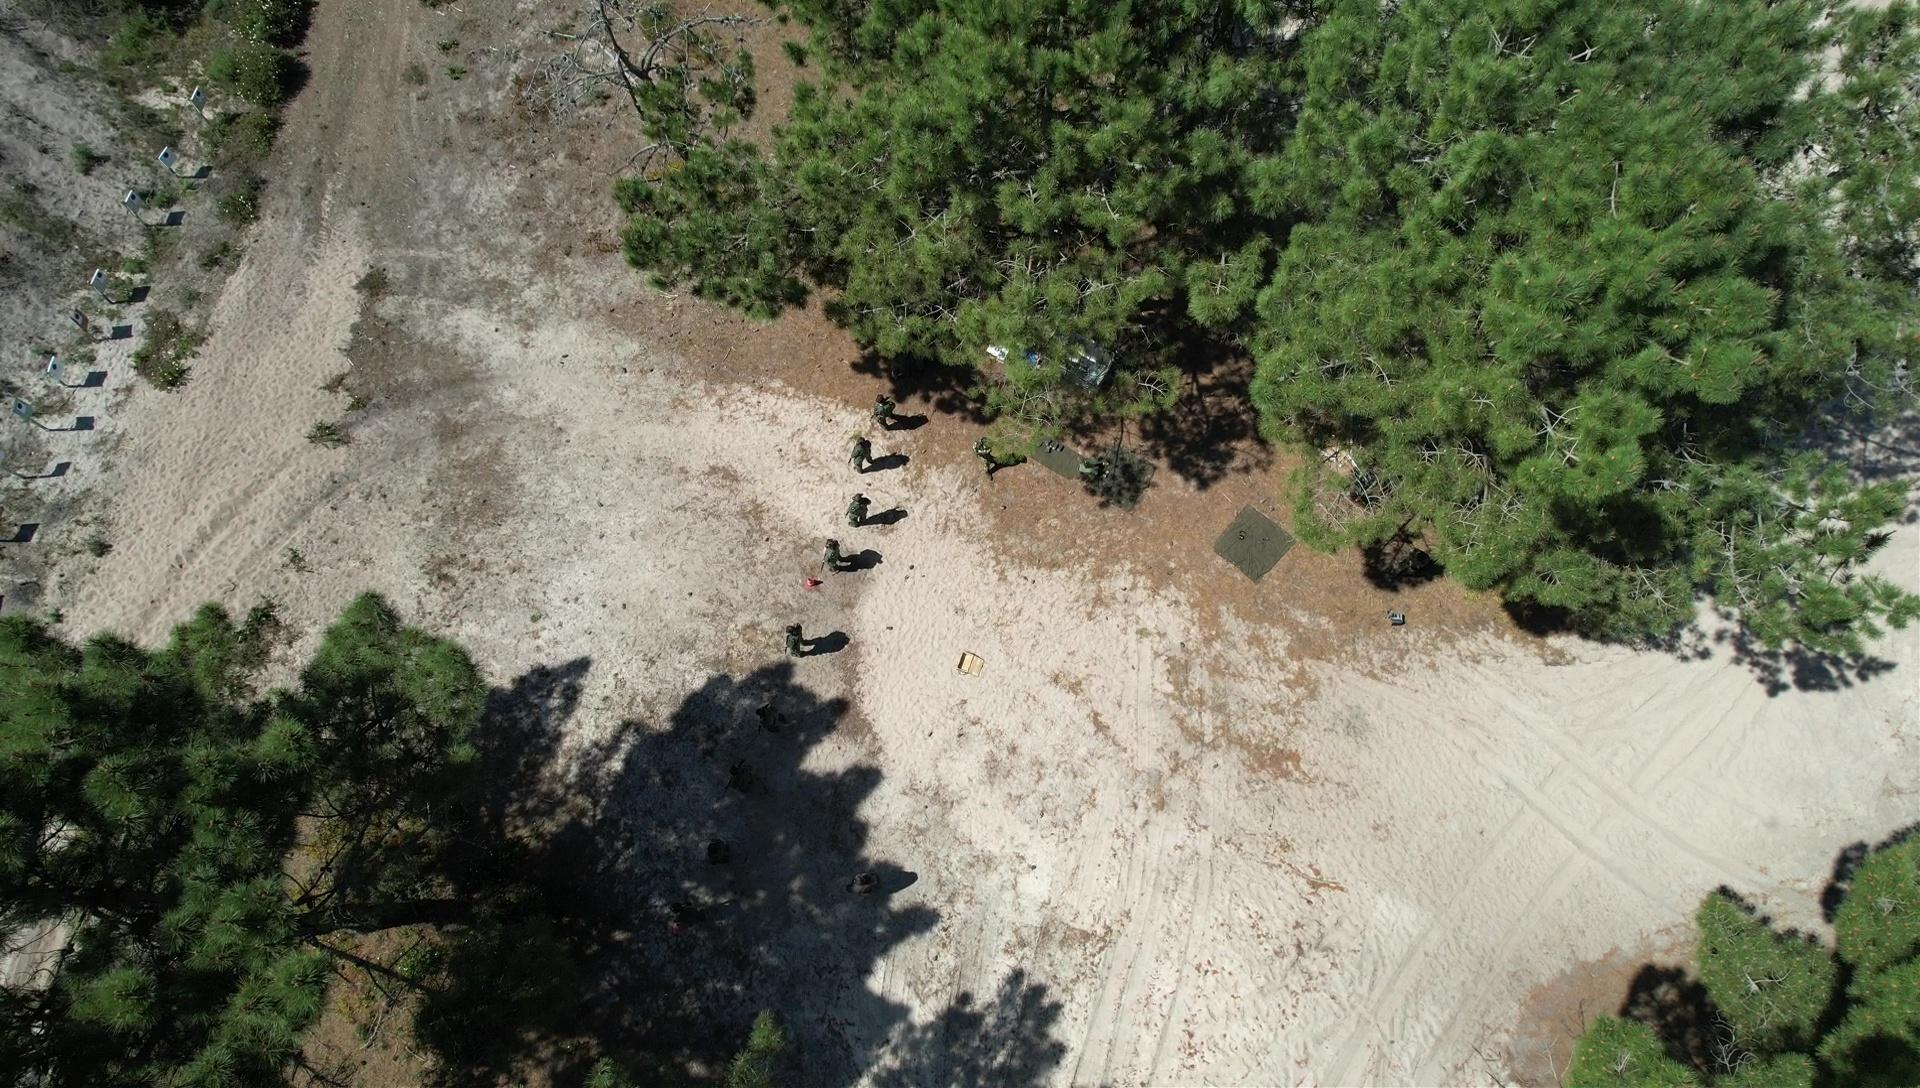Soldier: (724, 757, 773, 807), (845, 868, 895, 907), (967, 429, 1002, 481), (849, 437, 887, 485), (782, 619, 822, 661), (756, 702, 791, 742), (845, 493, 881, 533), (873, 390, 906, 433), (823, 539, 851, 580), (707, 839, 731, 868)
